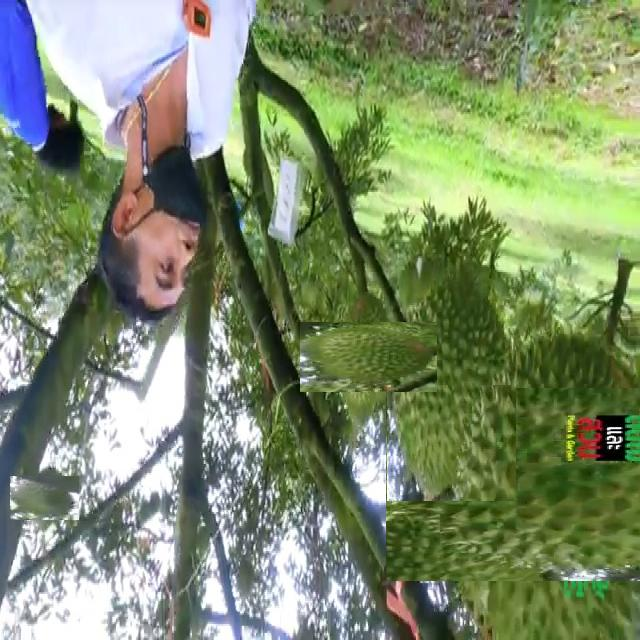durian: (415, 359, 640, 611), (387, 274, 516, 500), (316, 305, 421, 409), (16, 469, 74, 526)
